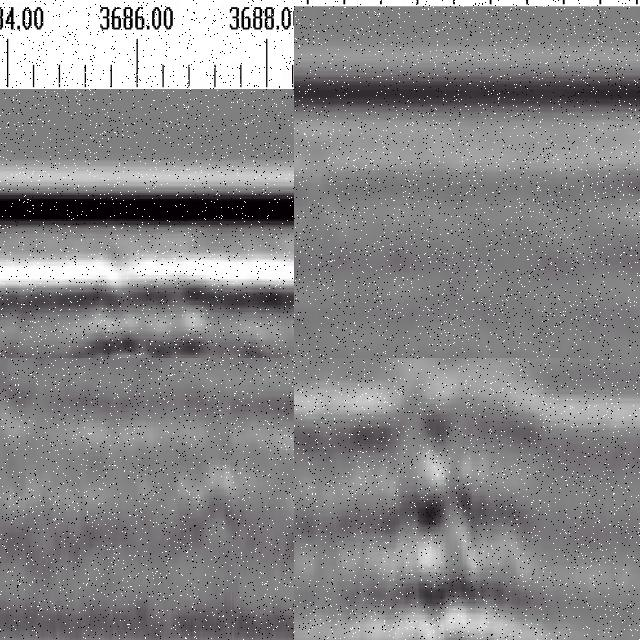loose: (331, 384, 527, 636), (62, 317, 294, 359)
